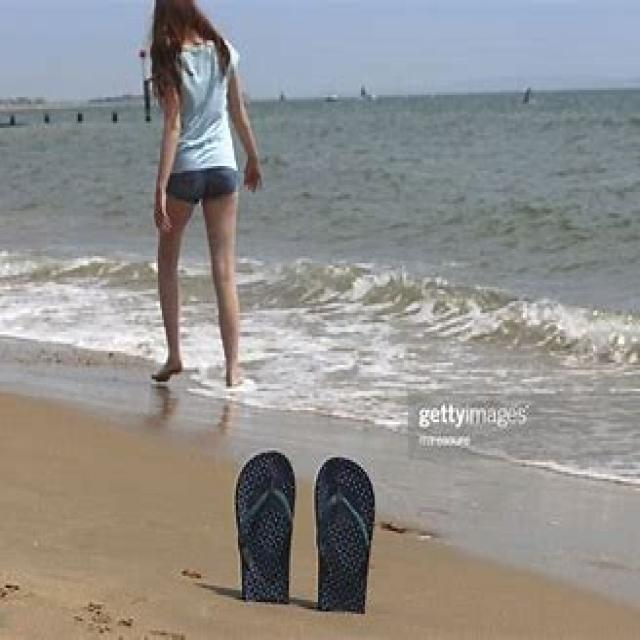No_Harness: (154, 31, 248, 215)
No_Helmet: (155, 1, 214, 29)
No_Shoe: (152, 347, 186, 386)
Person: (132, 0, 251, 392)
